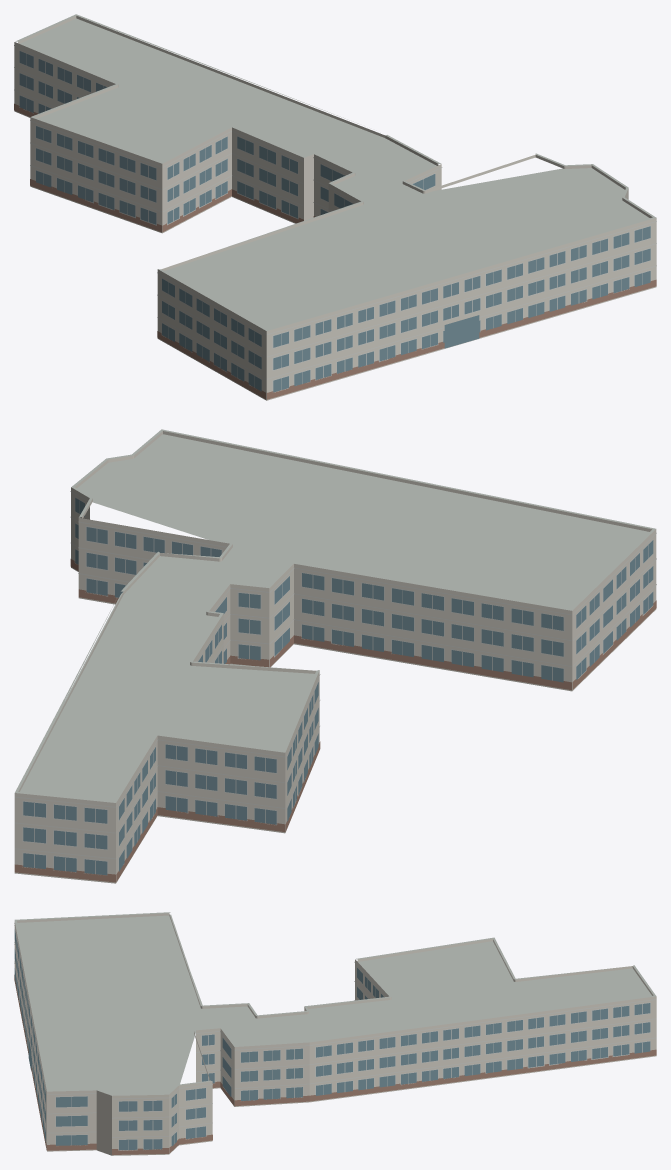
The model's file is public-cc9f6aec-1ab5-4693-9639-be913f9b2dbe.glb.
3 renders of one model, top to bottom at view 1: azimuth 30°, elevation 25°; view 2: azimuth 150°, elevation 25°; view 3: azimuth 270°, elevation 25°, orthographic. The views are drawn at different scales.
Parts seen in each view (by area): view 1: public-cc9f6aec-1ab5-4693-9639-be913f9b2dbe; view 2: public-cc9f6aec-1ab5-4693-9639-be913f9b2dbe; view 3: public-cc9f6aec-1ab5-4693-9639-be913f9b2dbe.
Part boxes in pixels (x1,y1,x2,y2): public-cc9f6aec-1ab5-4693-9639-be913f9b2dbe: [14, 14, 656, 400]; public-cc9f6aec-1ab5-4693-9639-be913f9b2dbe: [14, 429, 656, 883]; public-cc9f6aec-1ab5-4693-9639-be913f9b2dbe: [14, 912, 656, 1155].
Size of the model in its own units: 60.21 by 9.15 by 88.85.
